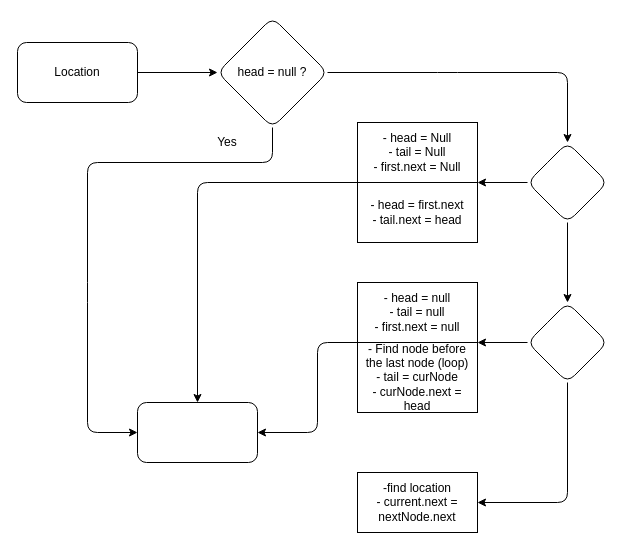
Image size: 625x550. Some labels were removed from this diagram. Here are the shapes that lost their labels. From the top down, the centre of each, then its label:
At point (567, 182): "location = first".
At point (567, 342): "location = last".
At point (197, 432): "Terminate".
